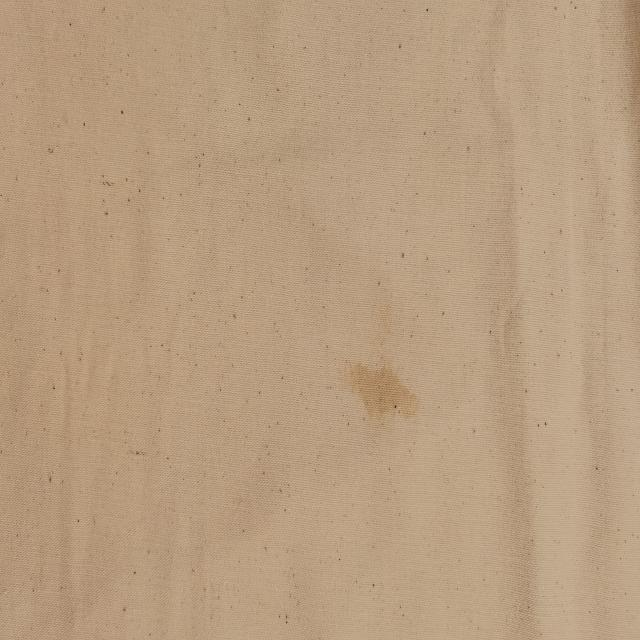taaaches: (348, 335, 422, 443)
